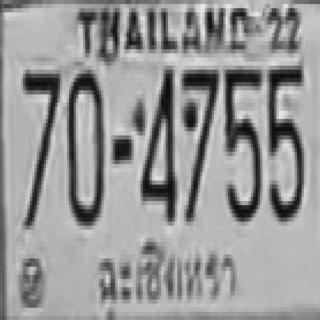N00: (66, 68, 102, 224)
N04: (138, 66, 175, 222)
N05: (265, 61, 302, 218), (223, 66, 260, 217)
N07: (21, 66, 58, 226), (181, 66, 218, 217)
P07: (94, 235, 244, 311)
